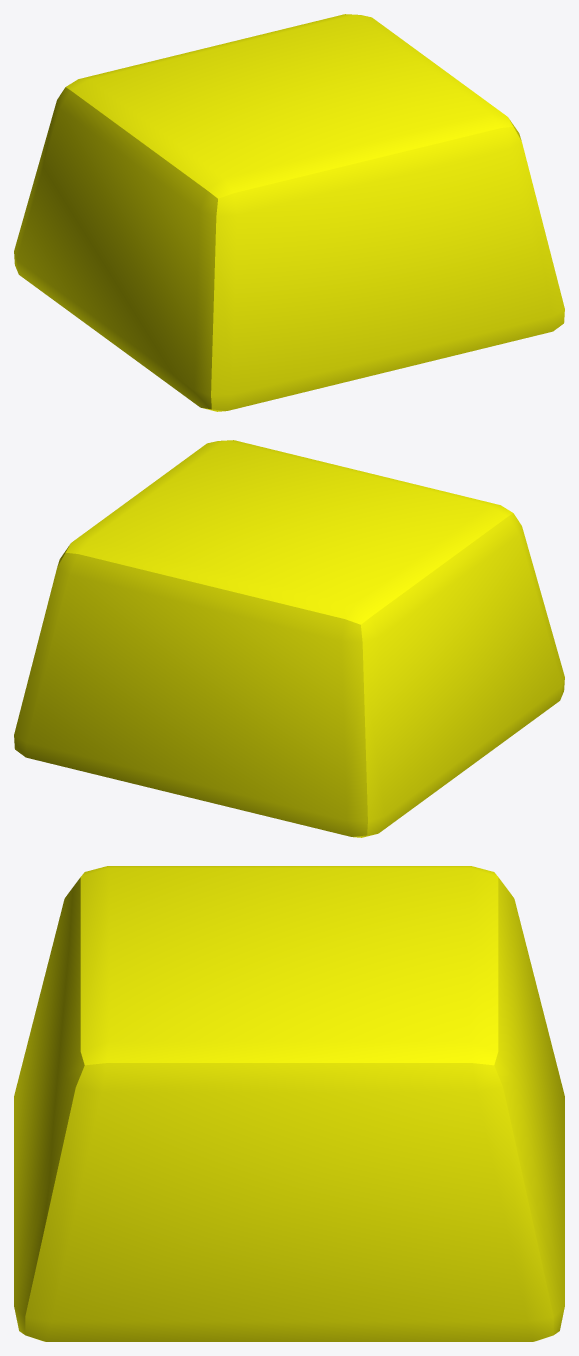
File: Rock1.glb
The picture shows the model from 3 angles, top to bottom: view 1: azimuth 30°, elevation 25°; view 2: azimuth 150°, elevation 25°; view 3: azimuth 270°, elevation 25°; orthographic projection. The views are drawn at different scales.
Visible parts, largest first — view 1: Rock1; view 2: Rock1; view 3: Rock1.
Boxes of the visible parts, <box> form: Rock1: <box>14,14,564,411</box>; Rock1: <box>14,440,564,837</box>; Rock1: <box>14,866,564,1341</box>.
Size of the model in its own units: 0.9339 by 0.5043 by 0.9025.
Materials: 1 (1 with a texture image).
